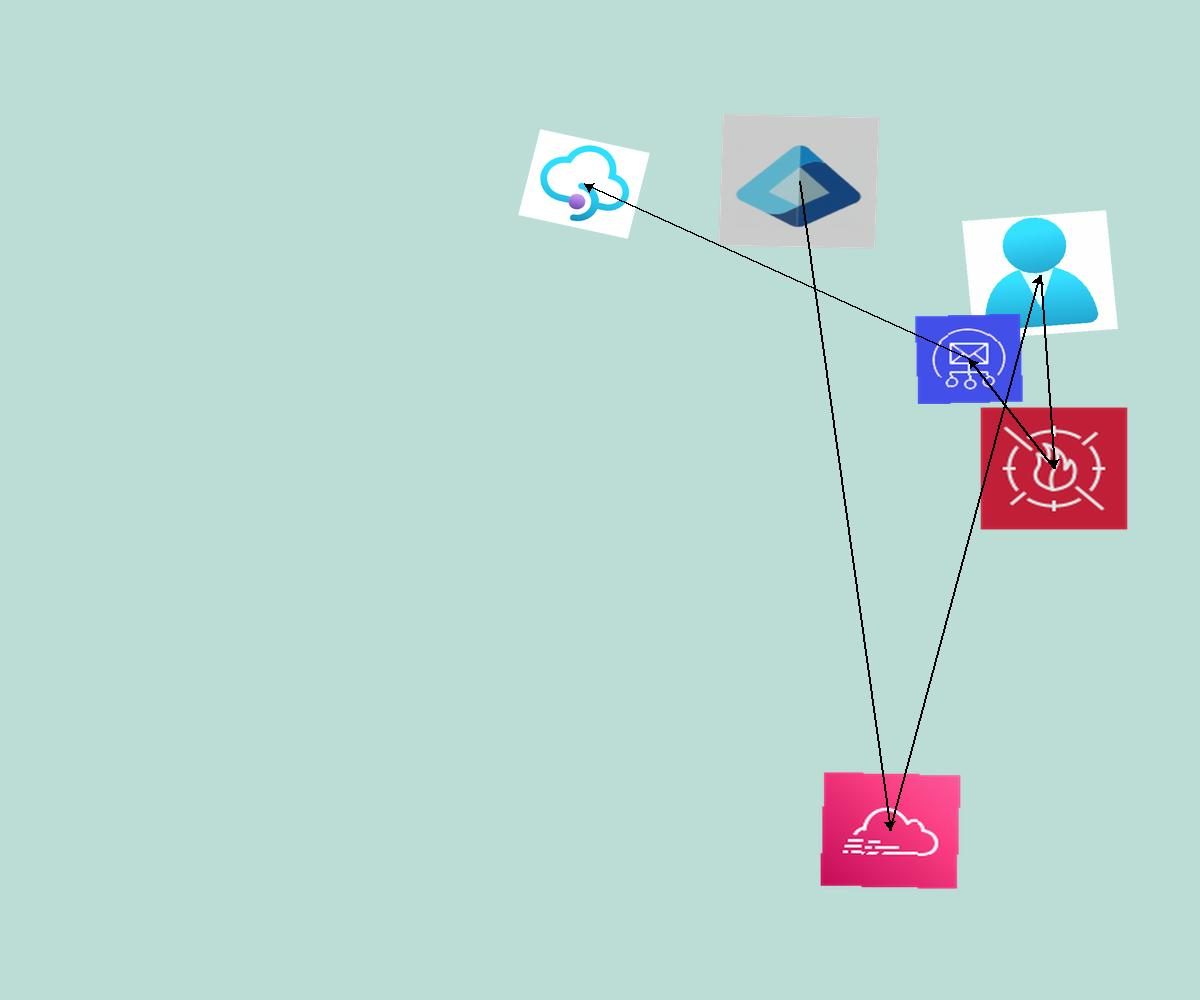AWS-CloudTrail: (819, 771, 962, 890)
AWS-Simple-Email-Service: (914, 313, 1024, 405)
AWS-WAF: (979, 406, 1129, 531)
Azure_api_gateway: (518, 129, 650, 239)
Azure_microsoft_entra: (718, 114, 880, 249)
Azure_users: (962, 210, 1118, 340)
